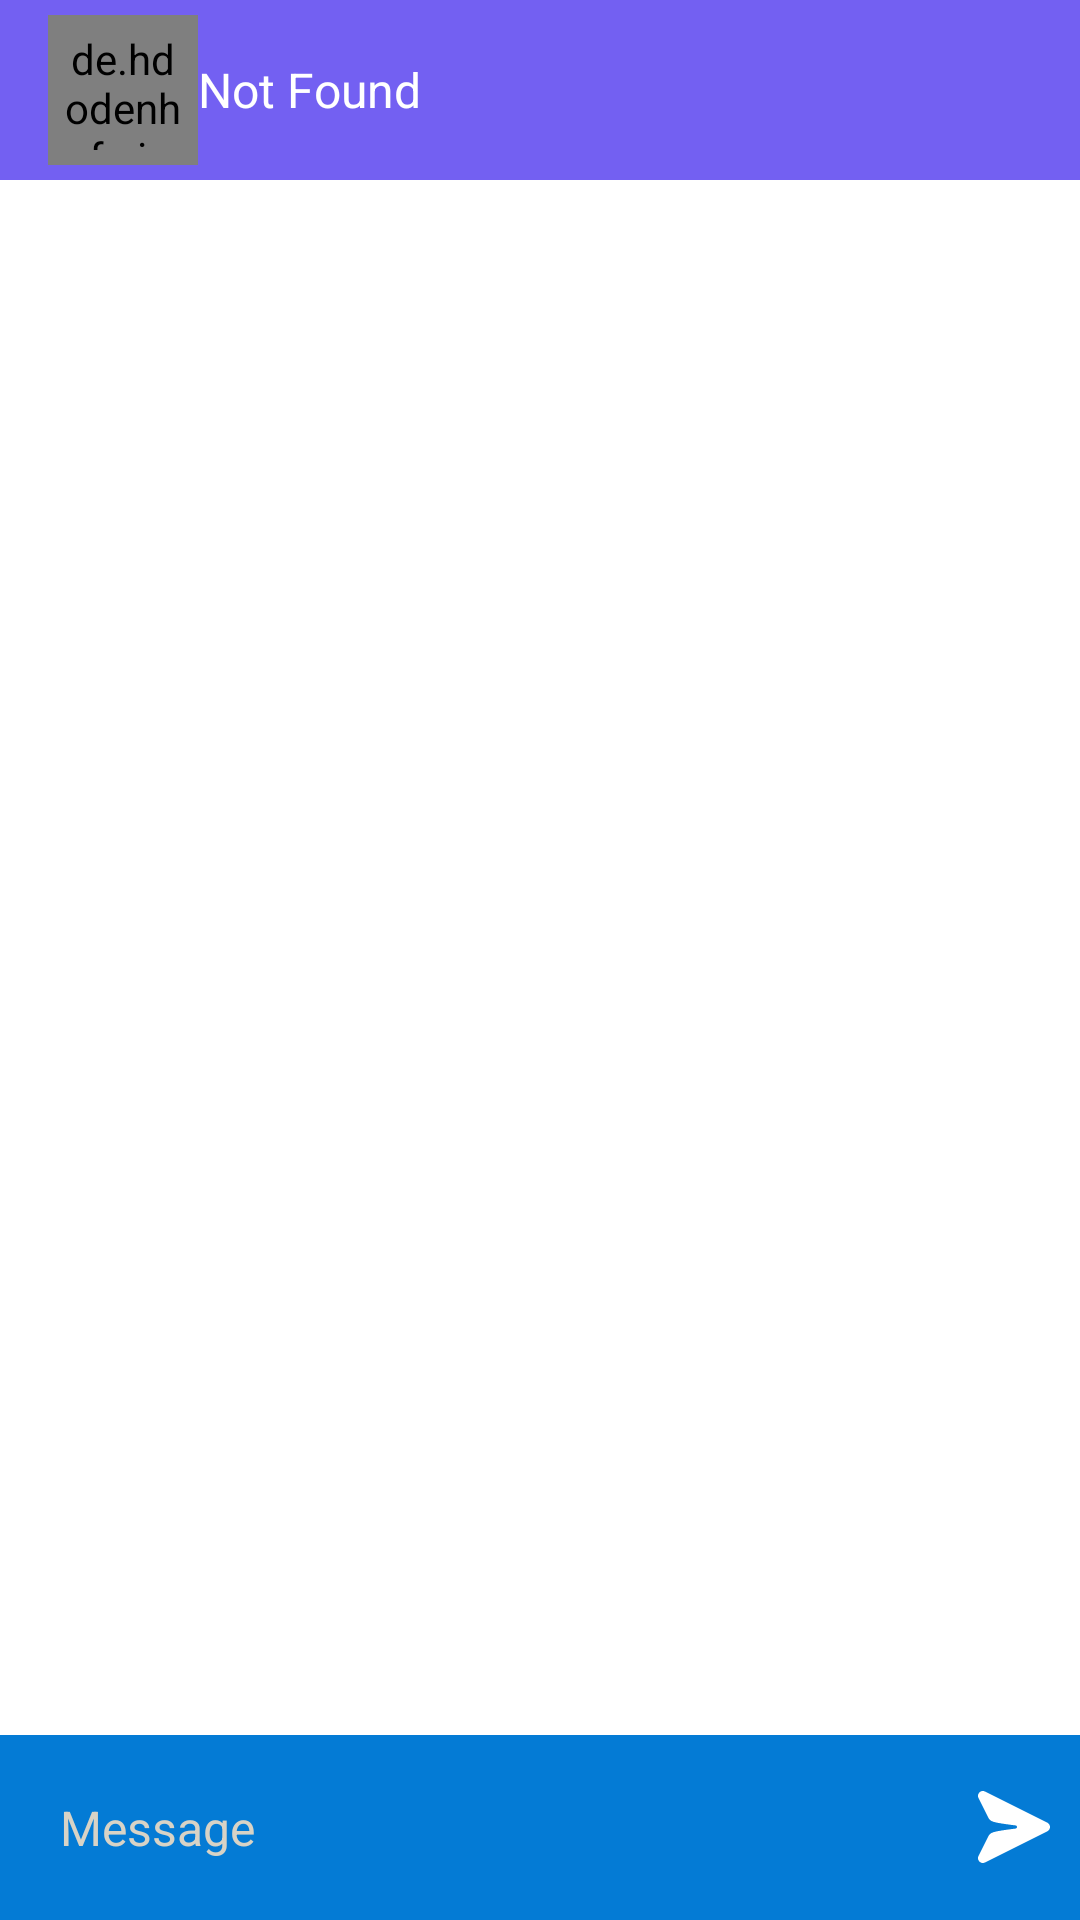

Screen size 1080*1920. Icon name, then its box in pixels as (x1, y1, x2, y2):
send: (978, 1791, 1050, 1863)
